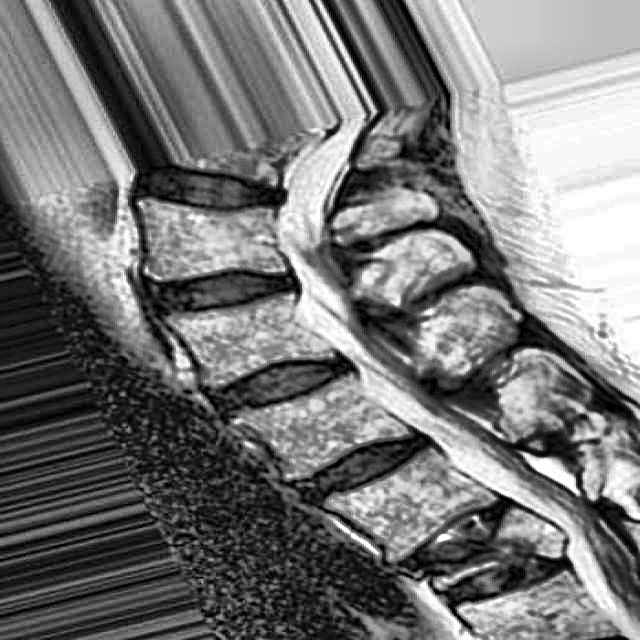Comminuted: (406, 494, 585, 606)
